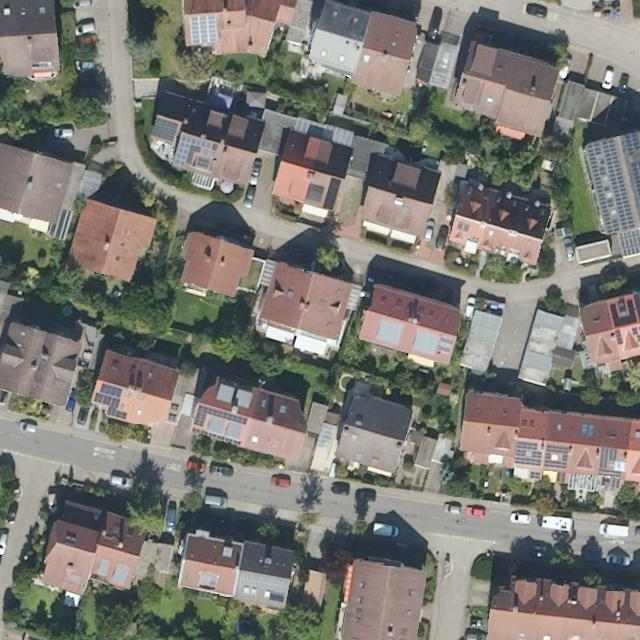PV: (581, 136, 637, 236), (511, 438, 574, 470), (189, 401, 250, 431), (236, 568, 294, 595), (171, 131, 213, 168), (621, 129, 639, 210), (91, 391, 130, 421), (186, 13, 218, 47), (148, 115, 182, 146), (608, 297, 639, 330), (596, 445, 624, 481), (613, 329, 625, 346), (629, 327, 639, 343)
